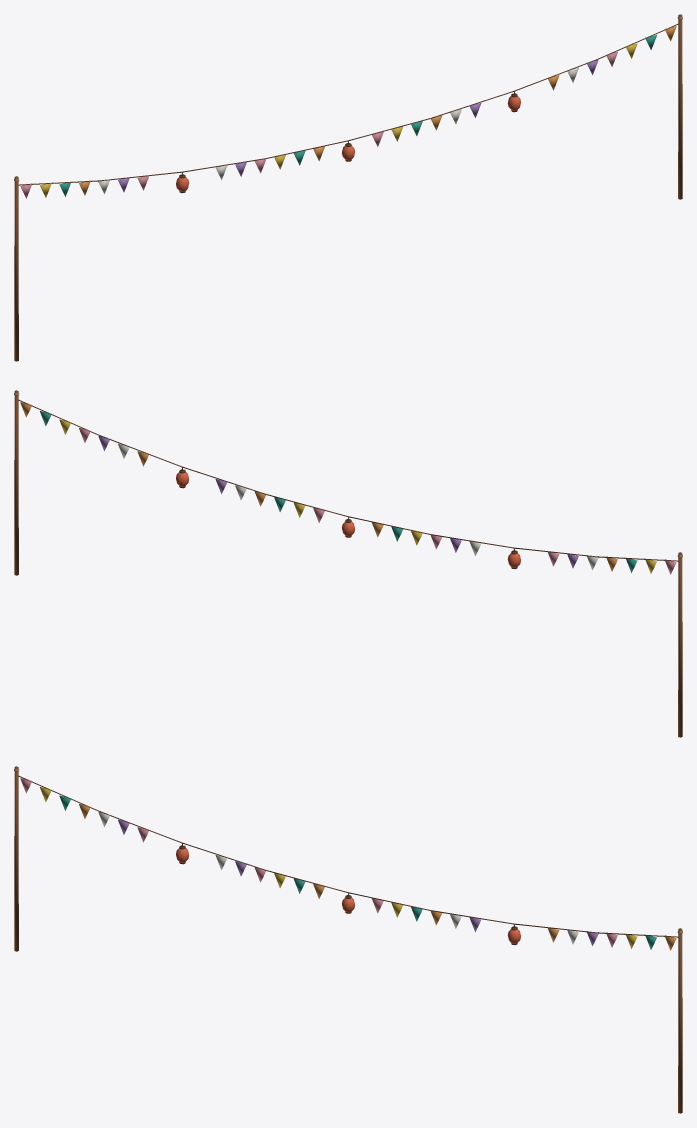
Rendered from bunting_long.glb.
3 views of the same model, one above another, from view 1: azimuth 30°, elevation 25°; view 2: azimuth 150°, elevation 25°; view 3: azimuth 330°, elevation 25° (orthographic).
Visible parts, largest first — view 1: bunting_long; view 2: bunting_long; view 3: bunting_long.
Part boxes in pixels (left/top/right/bottom): bunting_long: left=14, top=14, right=682, bottom=361; bunting_long: left=14, top=390, right=682, bottom=737; bunting_long: left=14, top=766, right=682, bottom=1113.
Bounding box in the file's own units: 19.13 × 5.01 × 0.34.
